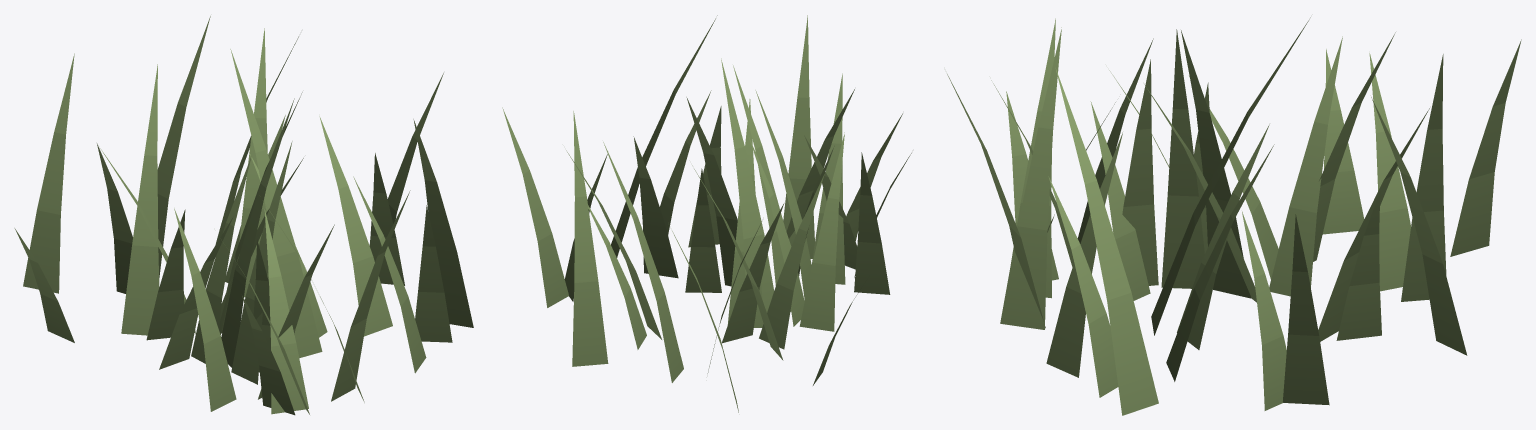
Rendered from grass_9.glb.
3 views of the same model, side by side, from view 1: azimuth 30°, elevation 25°; view 2: azimuth 150°, elevation 25°; view 3: azimuth 270°, elevation 25° (orthographic). The views are drawn at different scales.
Parts seen in each view (by area): view 1: grass_9.001; view 2: grass_9.001; view 3: grass_9.001.
Boxes of the visible parts, x1=… form: grass_9.001: x1=14, y1=16, x2=473, y2=415; grass_9.001: x1=502, y1=15, x2=911, y2=412; grass_9.001: x1=947, y1=17, x2=1521, y2=415.
Size of the model in its own units: 0.7851 by 0.4686 by 0.7974.
